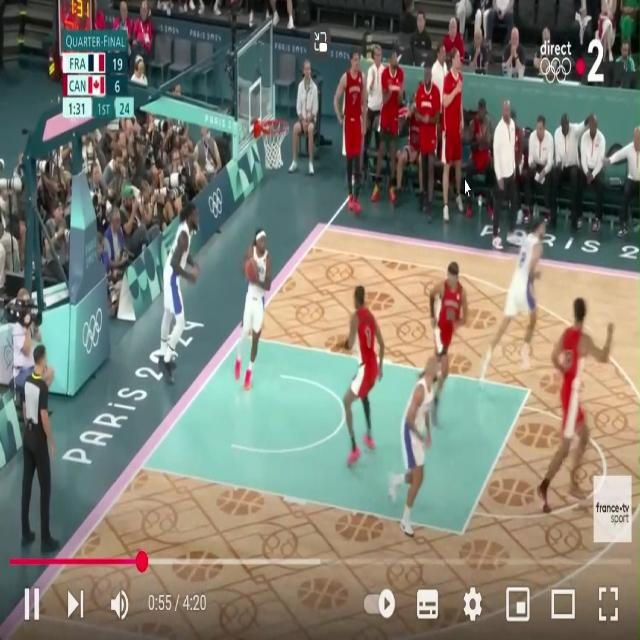ball_handler: (236, 226, 272, 393)
